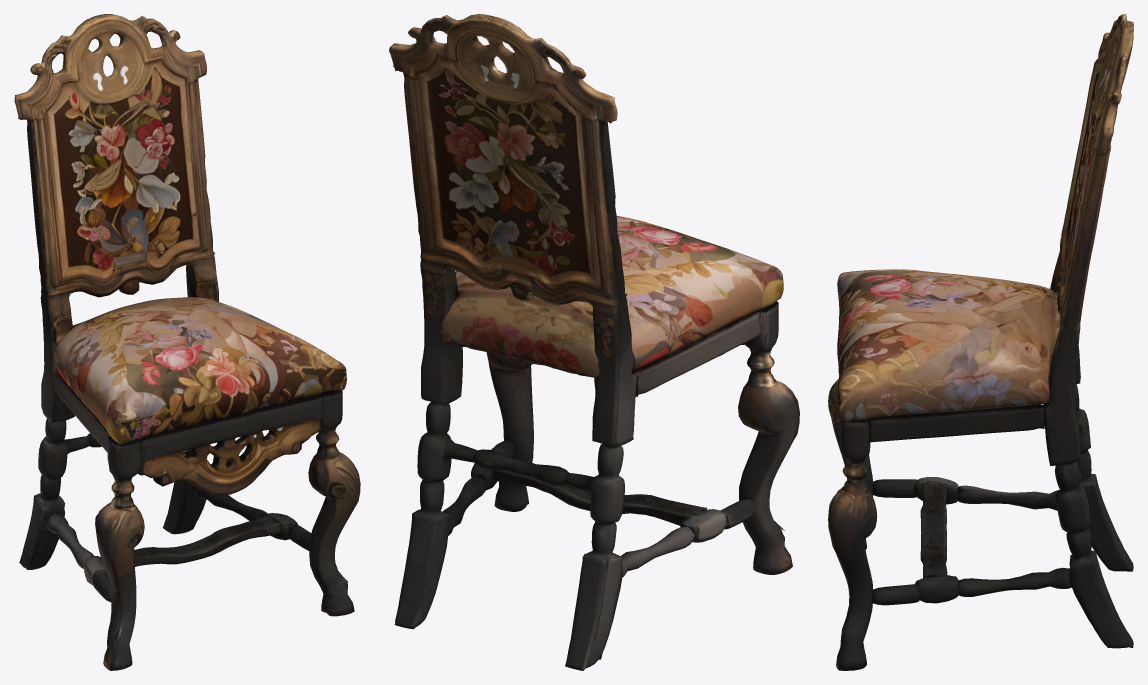
3 views of the same model, side by side, from view 1: azimuth 30°, elevation 25°; view 2: azimuth 150°, elevation 25°; view 3: azimuth 270°, elevation 25° (orthographic). The views are drawn at different scales.
Parts seen in each view (by area): view 1: root.0, root.1, root.2, root.4, root.3, root.5, root.7, root.6, root.11, root.9, root.10; view 2: root.0, root.1, root.4, root.5, root.6, root.3, root.9, root.7, root.11, root.12, root.10, root.13; view 3: root.1, root.0, root.3, root.6, root.8, root.5, root.10, root.7, root.11, root.14, root.4, root.13.
Part boxes in pixels (x1,y1,x2,y2): root.0: (14, 14, 218, 422); root.1: (53, 297, 346, 444); root.2: (137, 394, 322, 495); root.4: (95, 436, 144, 670); root.3: (308, 390, 360, 616); root.5: (19, 418, 90, 569); root.7: (96, 515, 282, 566); root.6: (162, 449, 206, 534); root.11: (46, 512, 111, 602); root.9: (54, 371, 110, 452); root.10: (193, 486, 311, 550); root.0: (389, 14, 636, 445); root.1: (441, 216, 783, 377); root.4: (738, 301, 799, 574); root.5: (564, 444, 624, 670); root.6: (394, 402, 477, 629); root.3: (486, 352, 533, 511); root.9: (631, 310, 761, 396); root.7: (492, 470, 706, 525); root.11: (621, 498, 754, 577); root.12: (473, 449, 568, 485); root.10: (443, 440, 514, 535); root.13: (680, 509, 726, 542); root.1: (837, 269, 1075, 420); root.0: (1043, 14, 1133, 465); root.3: (828, 418, 877, 670); root.6: (1055, 462, 1133, 648); root.8: (868, 404, 1044, 442); root.5: (1075, 384, 1133, 571); root.10: (872, 567, 1071, 605); root.7: (920, 483, 947, 578); root.11: (873, 479, 1059, 510); root.14: (915, 575, 958, 603); root.4: (828, 378, 873, 549); root.13: (915, 477, 958, 504).
Bounding box in the file's own units: 0.5305 × 1.04 × 0.4992.
15 materials, 15 textured.
